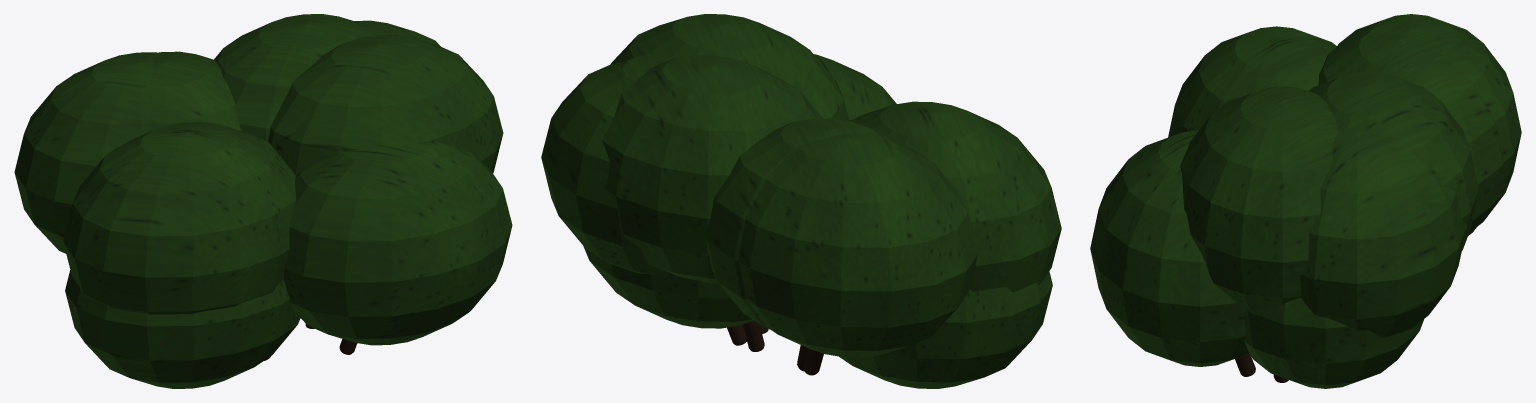
File: PROP-70BCB4C8377F_lod0.glb
3 renders of one model, left to right at view 1: azimuth 30°, elevation 25°; view 2: azimuth 150°, elevation 25°; view 3: azimuth 270°, elevation 25°, orthographic. The views are drawn at different scales.
Visible parts, largest first — view 1: foliage; view 2: foliage, plant_stem; view 3: foliage, plant_stem.
Part boxes in pixels (x1,y1,x2,y2): foliage: [14, 14, 512, 388]; foliage: [541, 14, 1061, 388]; plant_stem: [727, 321, 823, 375]; foliage: [1090, 14, 1521, 388]; plant_stem: [1235, 354, 1288, 382].
Size of the model in its own units: 1.14 by 0.7284 by 0.9392.
2 materials, 2 textured.
